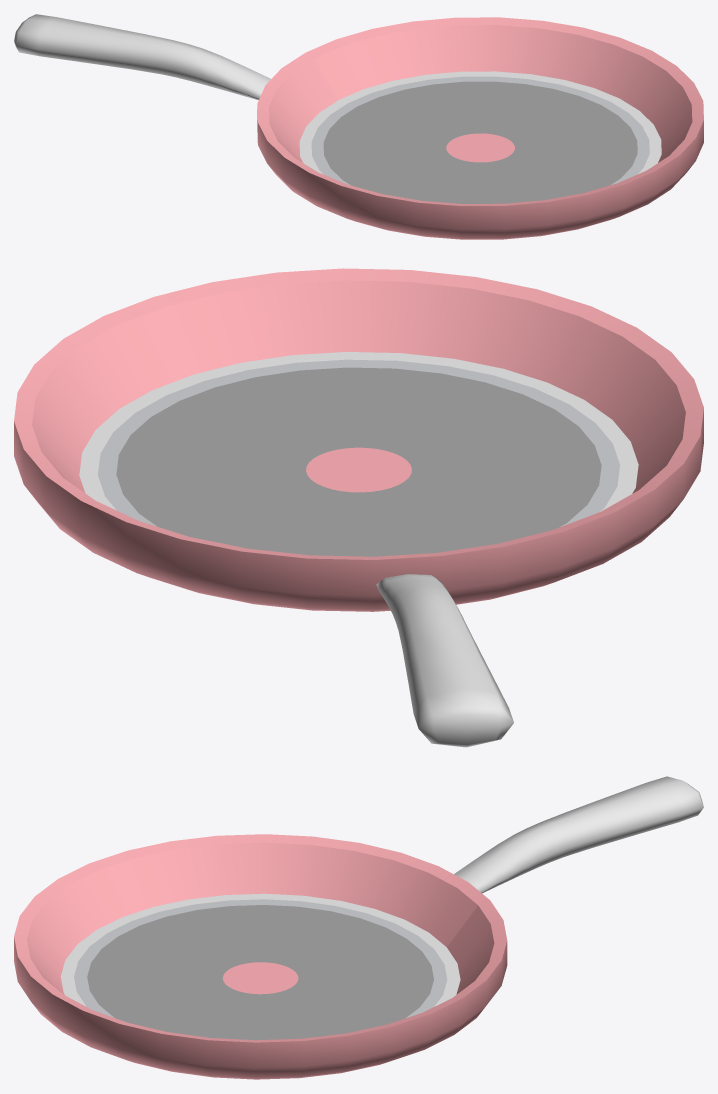
Rendered from Pan.fbx.
3 renders of one model, top to bottom at view 1: azimuth 30°, elevation 25°; view 2: azimuth 150°, elevation 25°; view 3: azimuth 270°, elevation 25°, orthographic. The views are drawn at different scales.
Visible parts, largest first — view 1: Pan; view 2: Pan; view 3: Pan.
Boxes of the visible parts, <box> form: Pan: <box>14,14,703,239</box>; Pan: <box>14,268,703,747</box>; Pan: <box>14,776,703,1079</box>.
Bounding box in the file's own units: 441 × 59.68 × 502.
